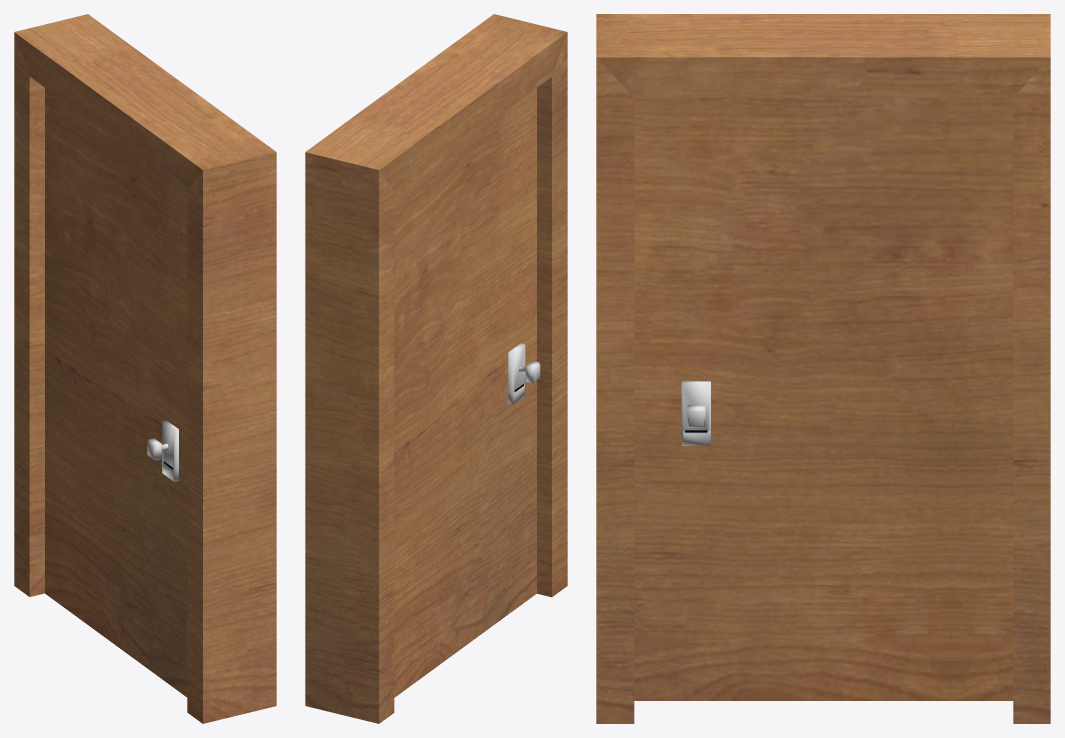
Rendered from ap01_door.obj.
3 renders of one model, left to right at view 1: azimuth 30°, elevation 25°; view 2: azimuth 150°, elevation 25°; view 3: azimuth 270°, elevation 25°, orthographic. The views are drawn at different scales.
Visible parts, largest first — view 1: Plane, Plane.008_Plane.002; view 2: Plane, Plane.008_Plane.002; view 3: Plane, Plane.008_Plane.002.
Boxes of the visible parts, box(x1,y1,x2,y2) form: Plane: box(14, 14, 276, 723); Plane.008_Plane.002: box(147, 420, 178, 481); Plane: box(305, 14, 567, 723); Plane.008_Plane.002: box(508, 343, 540, 404); Plane: box(596, 14, 1050, 723); Plane.008_Plane.002: box(681, 381, 710, 445).
Size of the model in its own units: 0.3463 by 2.15 by 1.33.
